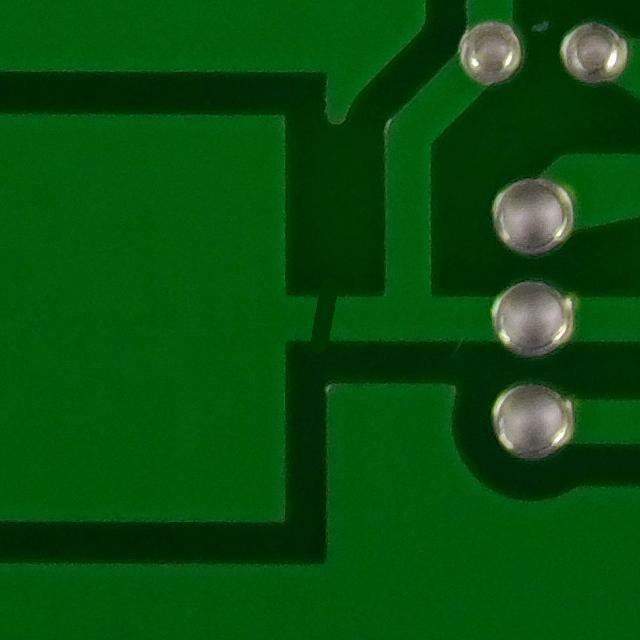open_circuit: (284, 278, 356, 362)
